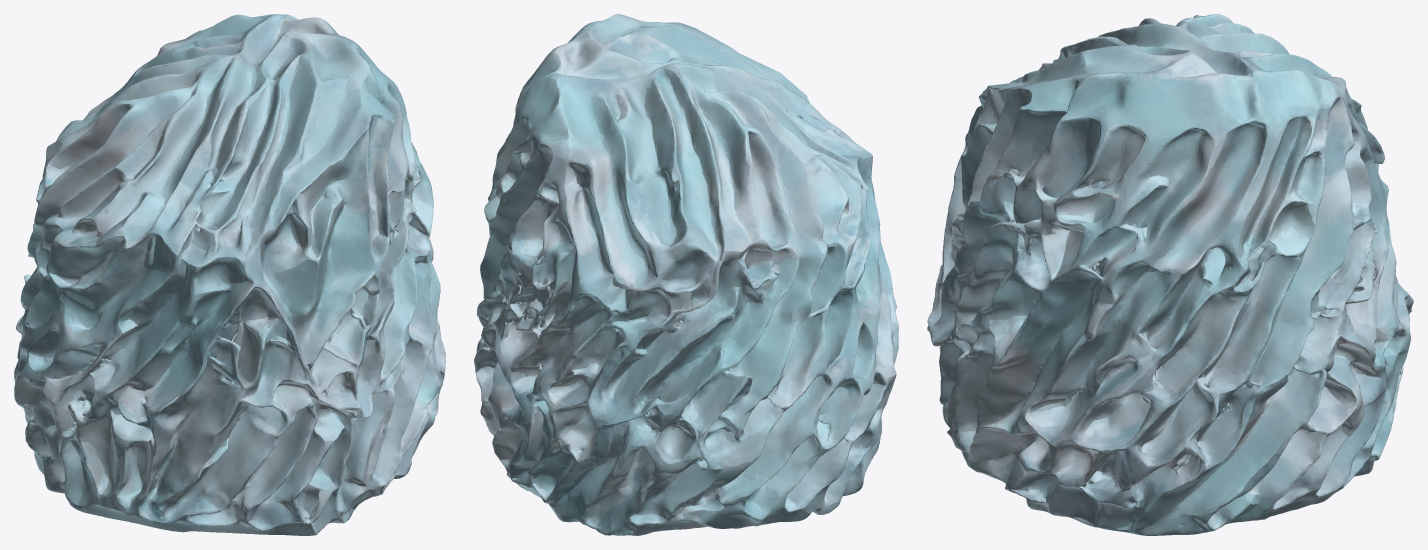
File: glacier-serac-v21.glb
3 views of the same model, side by side, from view 1: azimuth 30°, elevation 25°; view 2: azimuth 150°, elevation 25°; view 3: azimuth 270°, elevation 25° (orthographic). The views are drawn at different scales.
Visible parts, largest first — view 1: world; view 2: world; view 3: world.
Boxes of the visible parts, x1,y1,x2,y2 form: world: (14, 14, 445, 535); world: (474, 14, 898, 535); world: (927, 14, 1413, 535).
Size of the model in its own units: 0.2977 by 0.3 by 0.2986.
1 material, 1 textured.
